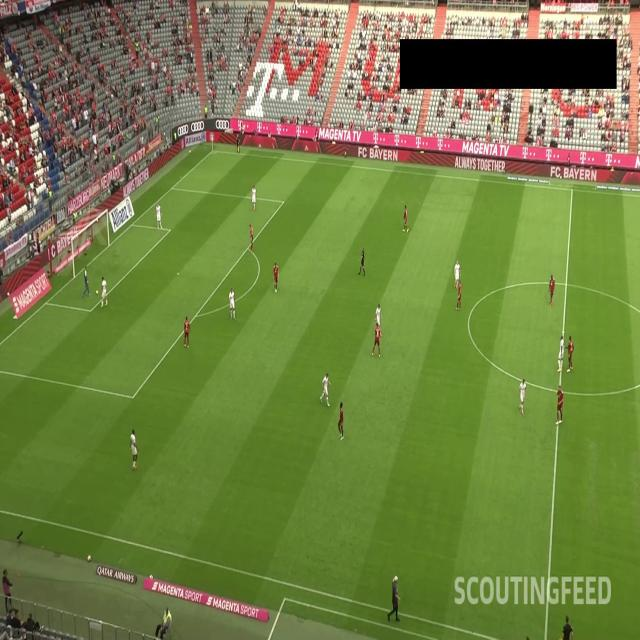ball: (95, 285, 100, 297)
player: (318, 369, 332, 408), (370, 318, 383, 359), (128, 425, 139, 469), (336, 396, 346, 442), (268, 256, 280, 294), (516, 372, 526, 417), (555, 331, 565, 374), (554, 385, 564, 427), (546, 268, 556, 309), (565, 333, 575, 374), (97, 274, 109, 308), (154, 199, 166, 232), (227, 285, 238, 319), (82, 262, 92, 297), (452, 253, 461, 290), (181, 313, 190, 349), (455, 275, 463, 313), (401, 200, 409, 234), (375, 300, 382, 337), (250, 182, 258, 213), (248, 221, 255, 252)
referee: (560, 613, 574, 640), (358, 244, 366, 277), (234, 128, 241, 155)
